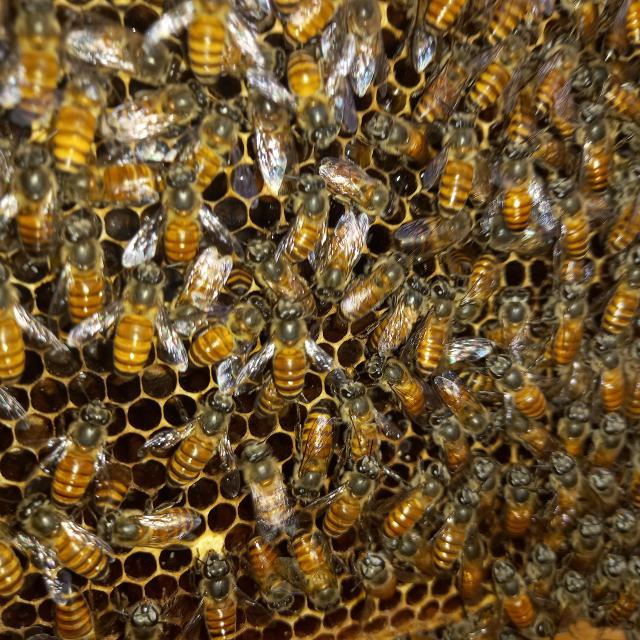honeybee: (94, 73, 208, 157), (54, 15, 178, 92), (32, 402, 109, 514), (22, 497, 118, 582), (82, 145, 209, 209), (0, 0, 66, 123), (0, 143, 67, 262), (146, 156, 213, 269), (107, 263, 170, 383), (170, 92, 239, 201), (56, 210, 111, 338), (237, 435, 304, 540), (239, 246, 318, 335), (42, 56, 99, 176), (96, 503, 206, 562), (309, 454, 377, 546), (189, 294, 273, 368), (415, 39, 487, 124), (167, 394, 228, 494), (368, 466, 447, 541), (336, 245, 402, 331), (282, 49, 340, 144), (244, 77, 297, 179), (322, 164, 401, 231), (162, 248, 220, 338), (463, 24, 515, 121), (337, 374, 389, 470), (368, 351, 428, 434), (438, 113, 481, 222), (430, 483, 480, 576), (384, 276, 450, 346), (285, 407, 330, 509), (181, 0, 234, 85), (196, 549, 245, 640), (246, 540, 304, 616), (266, 302, 308, 405), (396, 208, 486, 256), (369, 278, 420, 362), (545, 271, 593, 360), (368, 107, 438, 168), (286, 525, 334, 613), (493, 466, 545, 546), (339, 0, 385, 89), (434, 368, 492, 437), (282, 185, 332, 265), (453, 248, 503, 323), (484, 361, 552, 416), (498, 146, 540, 235), (491, 553, 538, 632), (462, 443, 510, 518), (271, 0, 353, 43), (585, 63, 640, 127), (0, 266, 27, 394), (536, 44, 581, 120), (602, 166, 640, 253), (424, 400, 470, 471), (322, 214, 358, 304), (595, 337, 638, 412), (419, 285, 456, 372), (607, 250, 640, 347), (446, 387, 500, 441), (50, 584, 101, 640), (470, 0, 523, 50), (496, 286, 536, 352), (550, 568, 594, 628), (584, 122, 617, 200), (560, 186, 589, 266), (358, 549, 402, 601), (91, 466, 134, 518), (590, 474, 632, 521), (596, 413, 630, 471), (576, 511, 613, 564), (545, 454, 584, 502), (411, 0, 461, 36), (0, 526, 24, 600), (219, 255, 257, 300), (611, 504, 640, 560), (572, 0, 609, 43), (125, 594, 159, 640), (596, 560, 629, 606), (563, 404, 594, 451), (255, 380, 290, 421), (397, 524, 424, 568), (622, 0, 640, 55)
